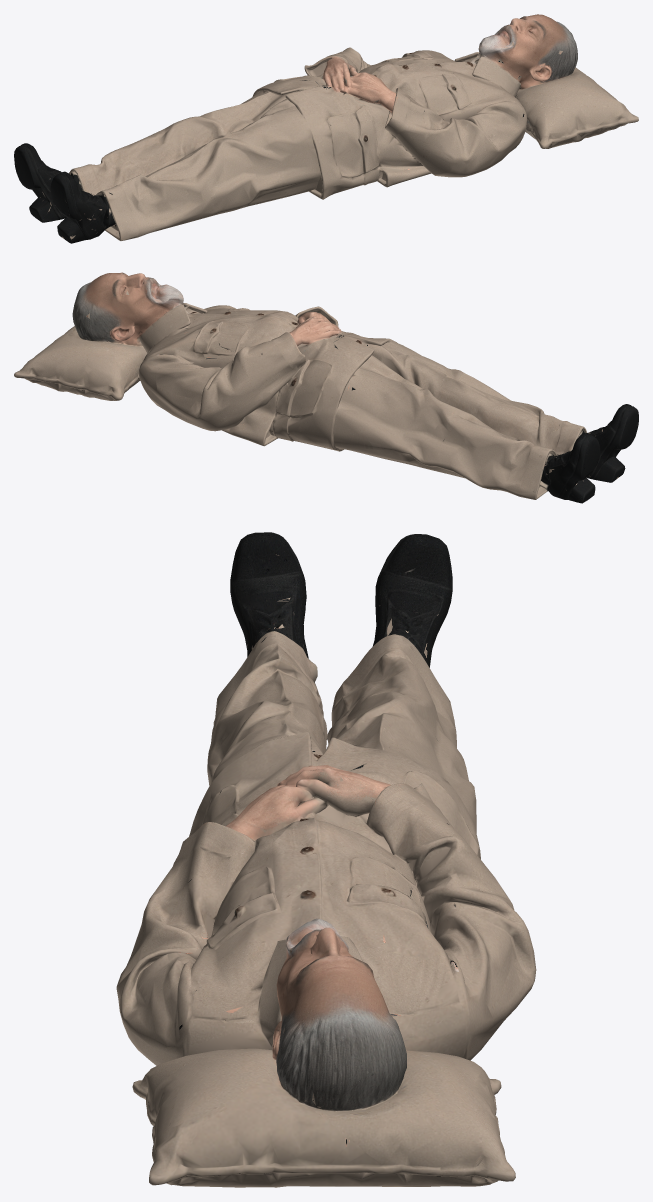
File: thi hài bác.glb
The picture shows the model from 3 angles, top to bottom: view 1: azimuth 30°, elevation 25°; view 2: azimuth 150°, elevation 25°; view 3: azimuth 270°, elevation 25°; orthographic projection. The views are drawn at different scales.
Size of the model in its own units: 1.9 by 0.3272 by 0.6247.
1 material, 1 textured.
